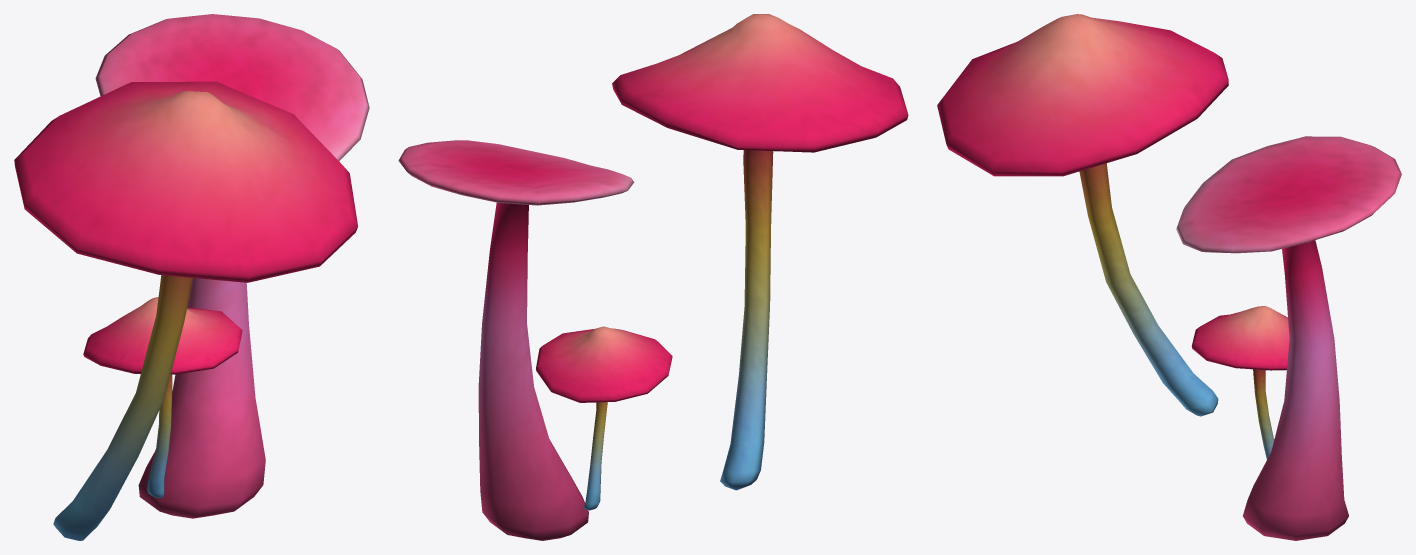
Rendered from Cartoon Seaweed_13-2-21.fbx.
The picture shows the model from 3 angles, left to right: view 1: azimuth 30°, elevation 25°; view 2: azimuth 150°, elevation 25°; view 3: azimuth 270°, elevation 25°; orthographic projection. The views are drawn at different scales.
Visible parts, largest first — view 1: Cartoon Seaweed_13.2.21; view 2: Cartoon Seaweed_13.2.21; view 3: Cartoon Seaweed_13.2.21.
Part boxes in pixels (x1=…): Cartoon Seaweed_13.2.21: x1=14, y1=14, x2=369, y2=540; Cartoon Seaweed_13.2.21: x1=398, y1=14, x2=908, y2=540; Cartoon Seaweed_13.2.21: x1=937, y1=14, x2=1401, y2=540.
Size of the model in its own units: 12.83 by 15.12 by 13.94.
Materials: 1 (1 with a texture image).
